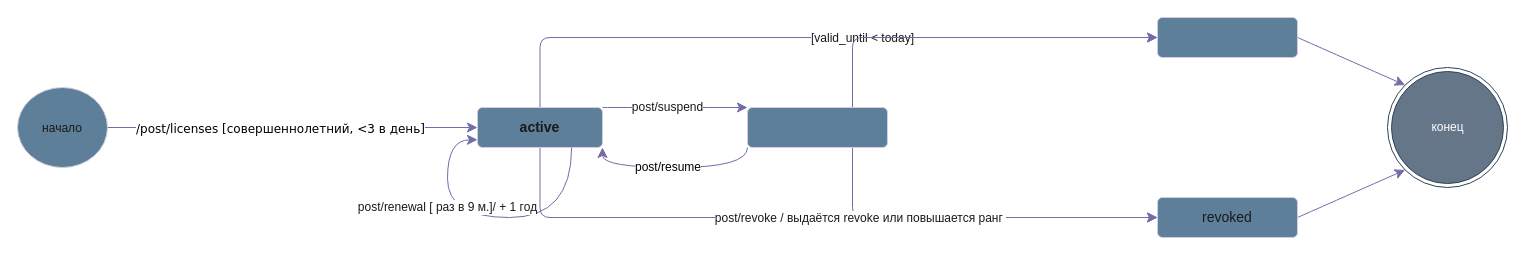
This 1525x255 diagram has some shape labels left out. The centre of each missing label's shape, as x and y in pixels:
"expired" belongs at (1227,37).
"suspended" belongs at (817,127).
